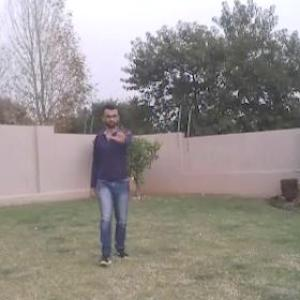follow_hand: (107, 121, 134, 146)
